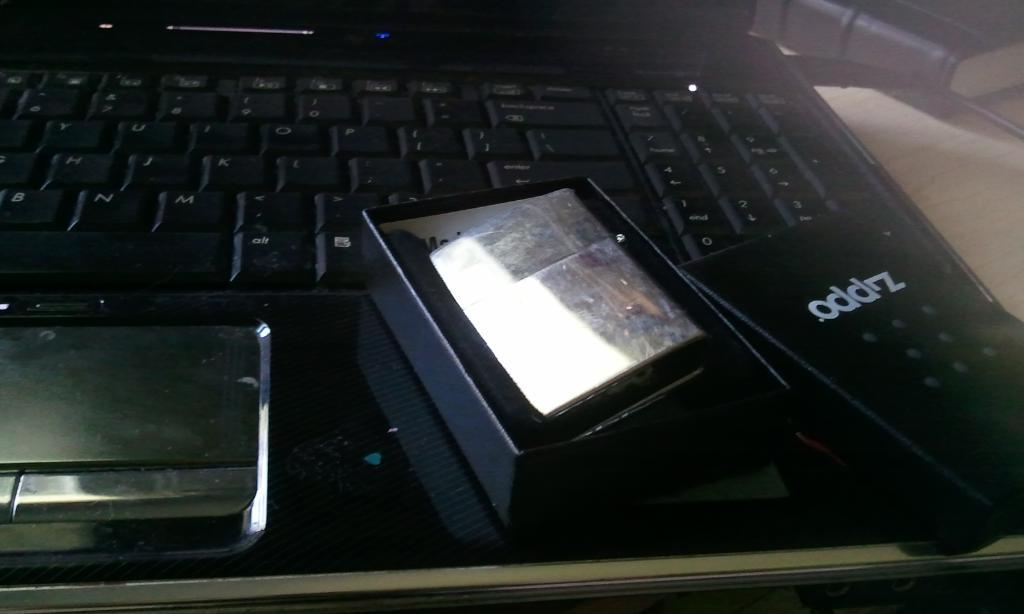Computer-keyboard: (0, 67, 902, 300)
